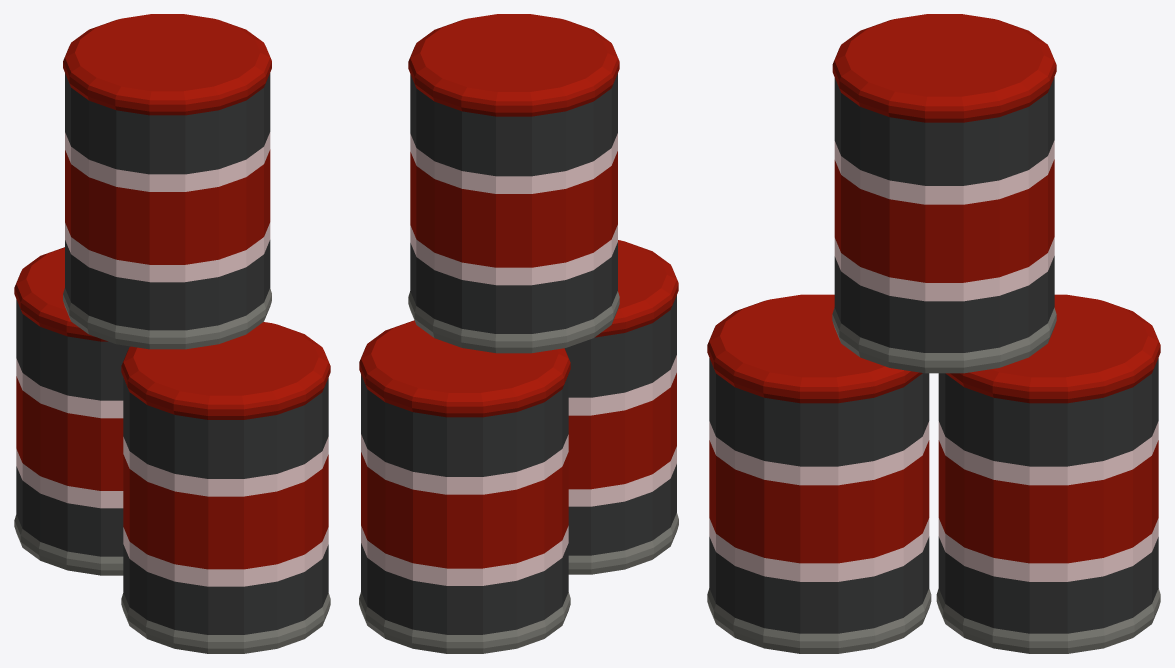
File: banka_cofe.fbx
The picture shows the model from 3 angles, left to right: view 1: azimuth 30°, elevation 25°; view 2: azimuth 150°, elevation 25°; view 3: azimuth 270°, elevation 25°; orthographic projection. The views are drawn at different scales.
Visible parts, largest first — view 1: banka cofe; view 2: banka cofe; view 3: banka cofe.
Boxes of the visible parts, x1,y1,x2,y2 form: banka cofe: (14,14,330,653); banka cofe: (359,14,678,653); banka cofe: (707,14,1160,653).
Bounding box in the file's own units: 2.73 × 7.56 × 5.62.
